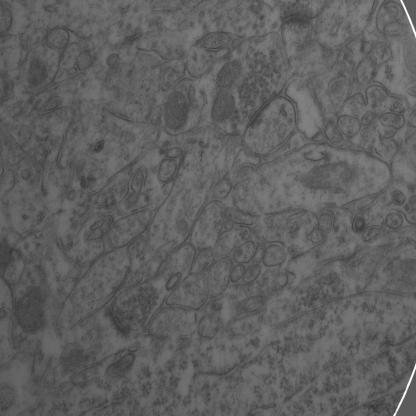mitochondria: (211, 59, 242, 122), (17, 288, 47, 334), (163, 89, 192, 132), (27, 61, 46, 88)
